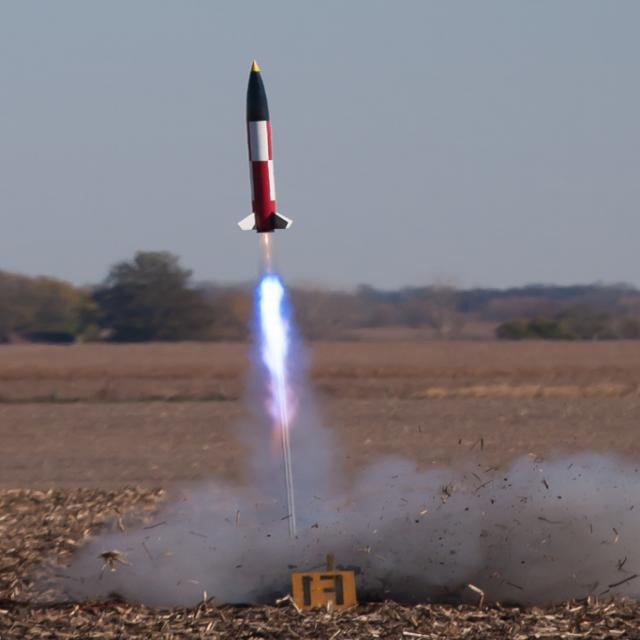rocket: (233, 59, 301, 439)
